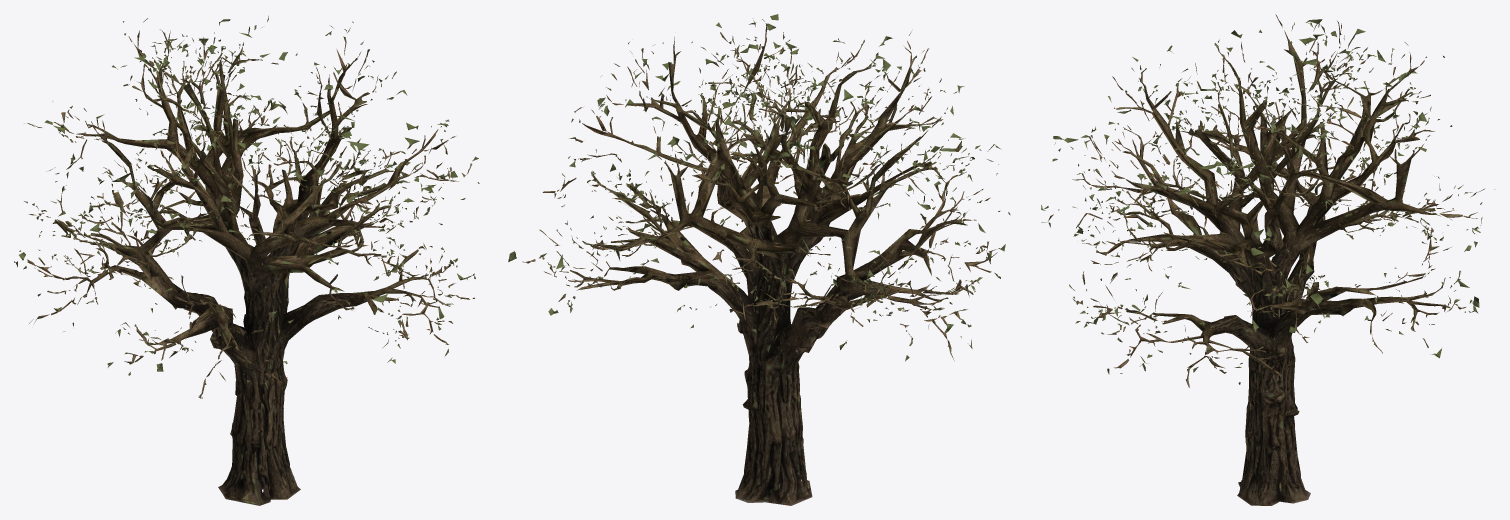
File: tree_big_lod1.glb
The picture shows the model from 3 angles, left to right: view 1: azimuth 30°, elevation 25°; view 2: azimuth 150°, elevation 25°; view 3: azimuth 270°, elevation 25°; orthographic projection. The views are drawn at different scales.
Visible parts, largest first — view 1: world; view 2: world; view 3: world.
Part boxes in pixels (<box>): world: <box>14,15,479,505</box>; world: <box>508,14,1010,505</box>; world: <box>1041,14,1494,505</box>.
Bounding box in the file's own units: 0.9448 × 0.9689 × 0.8966.
Materials: 1 (1 with a texture image).
